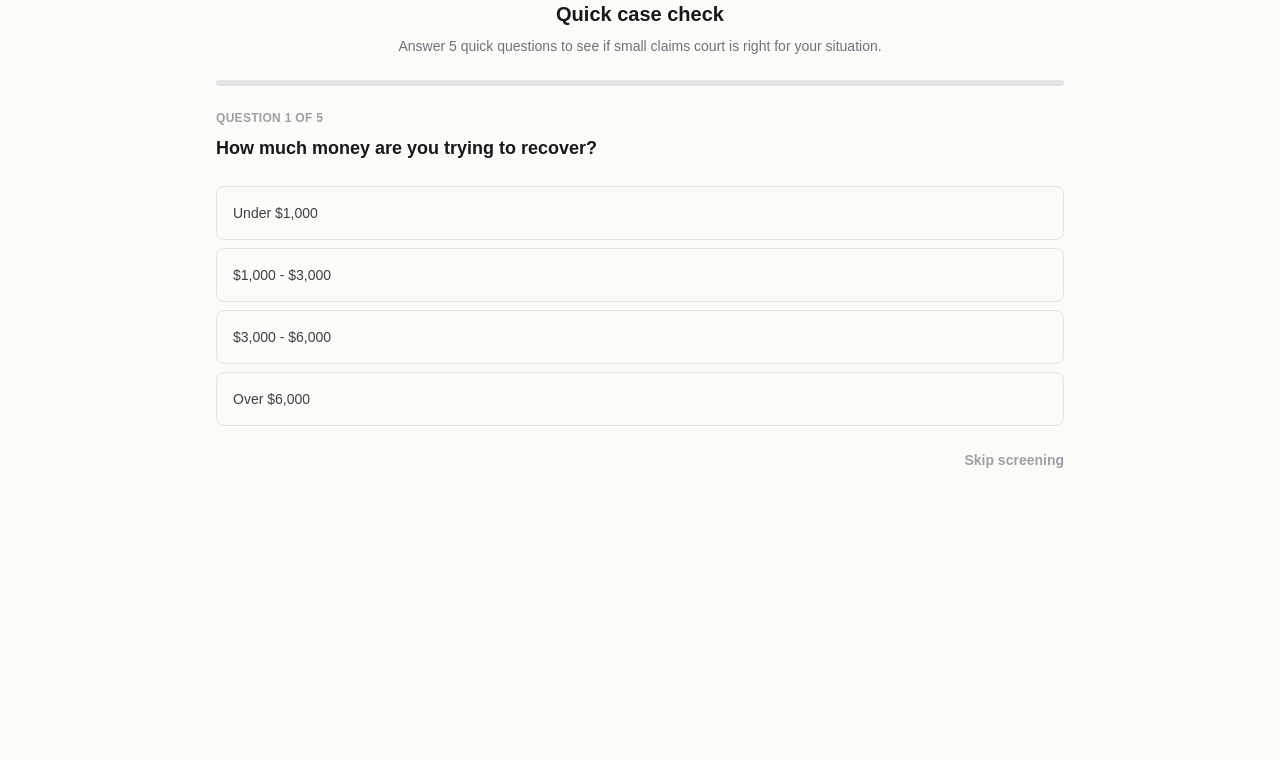
Test: Error path integration tests › shows error when addEvidence fails
This screenshot has width=1280, height=760.
Click the button "Skip screening" at {"x": 1014, "y": 460}, box top-left (964, 450), bottom-right (1064, 470)
(page scrolled)
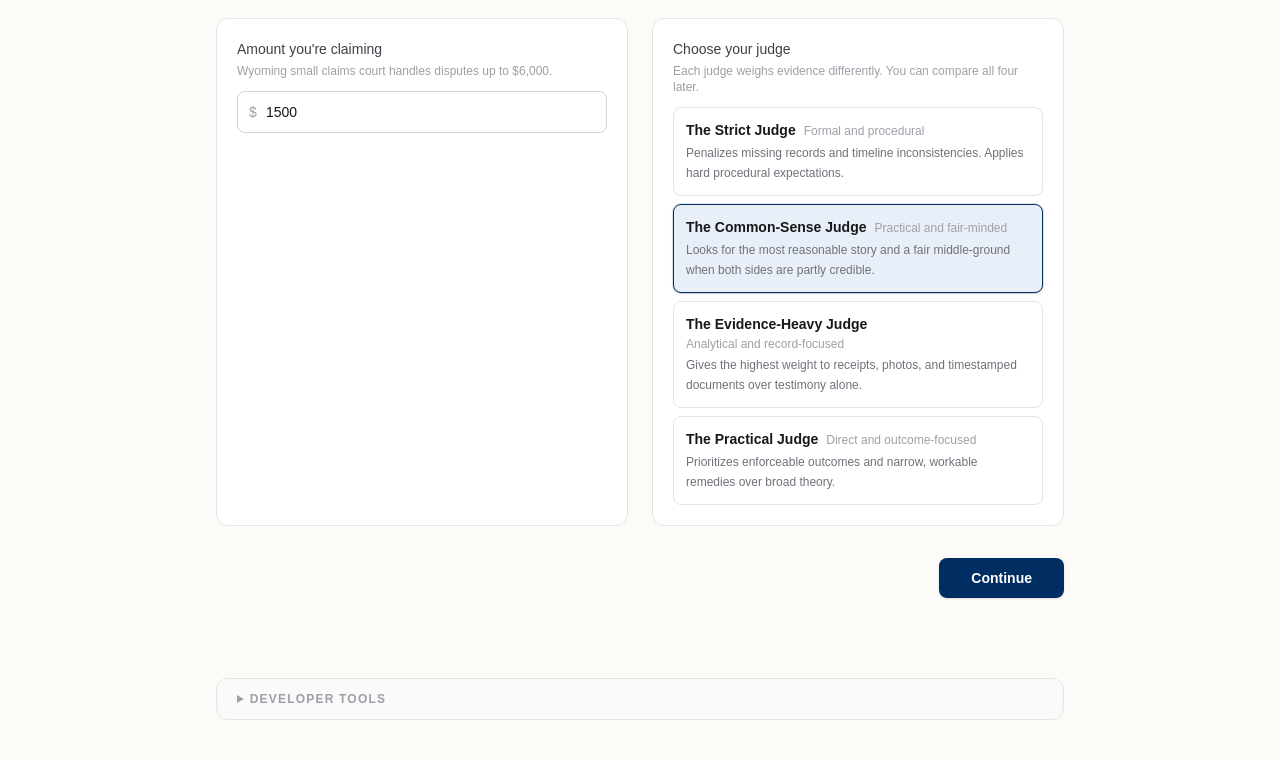
Click the button "Continue" at {"x": 1002, "y": 578}, box top-left (939, 558), bottom-right (1064, 598)
(page scrolled)
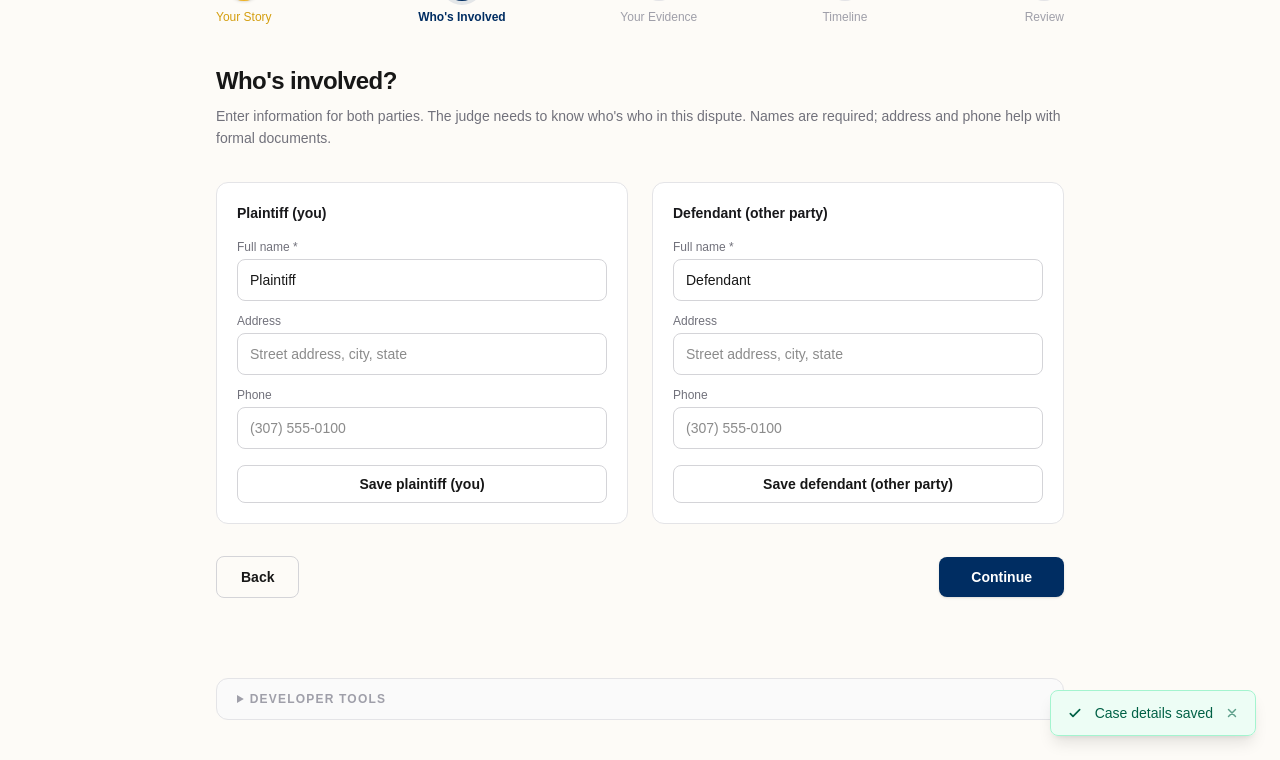
Click the button "Save plaintiff (you)" at {"x": 422, "y": 484}, box top-left (237, 465), bottom-right (607, 503)
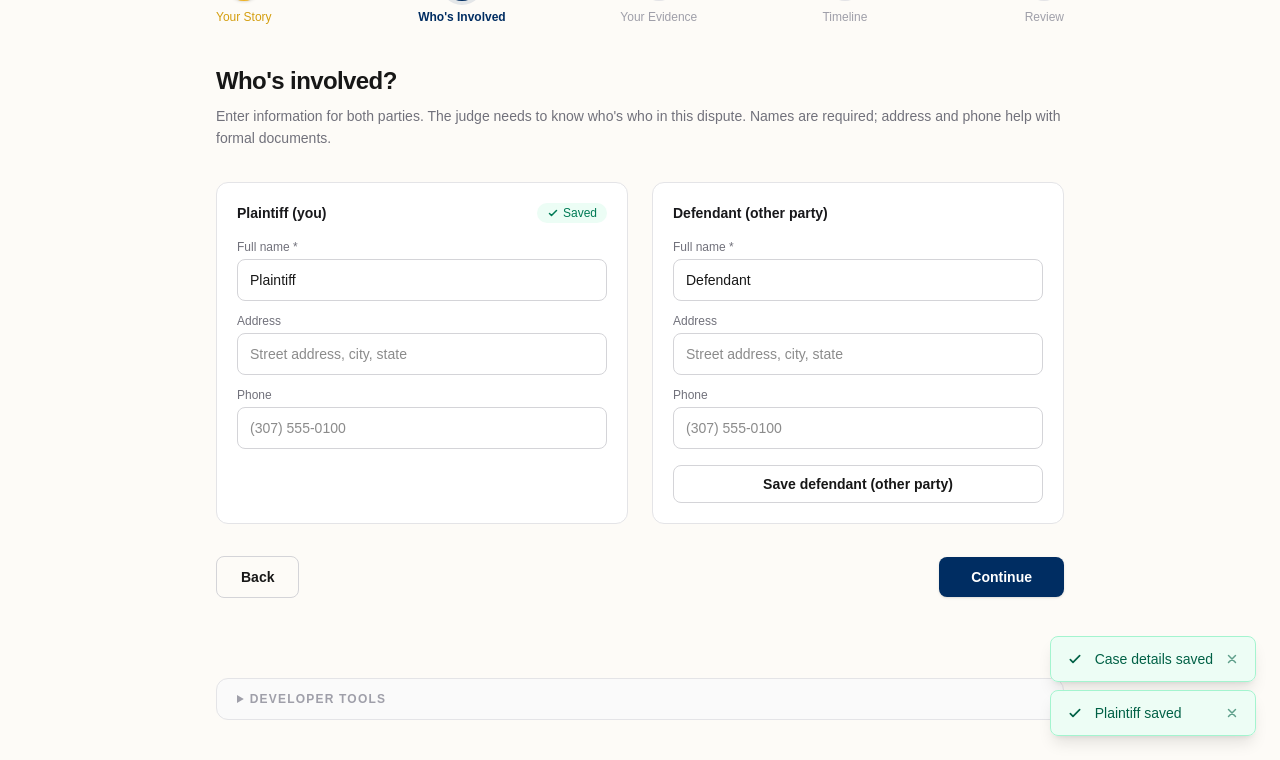
Expected: the button "Save defendant (other party)" is shown
Click the button "Save defendant (other party)" at {"x": 858, "y": 484}, box top-left (673, 465), bottom-right (1043, 503)
(page scrolled)
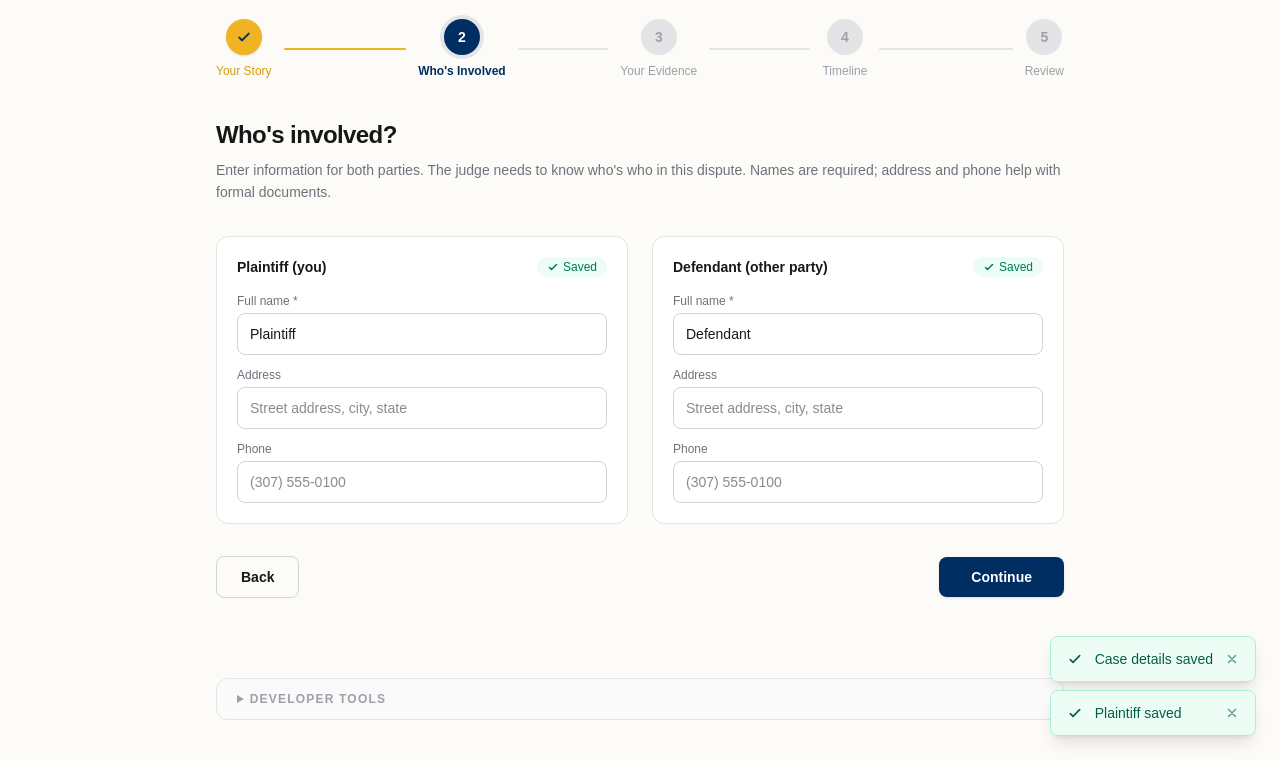
Click the button "Continue" at {"x": 1002, "y": 577}, box top-left (939, 557), bottom-right (1064, 597)
(page scrolled)
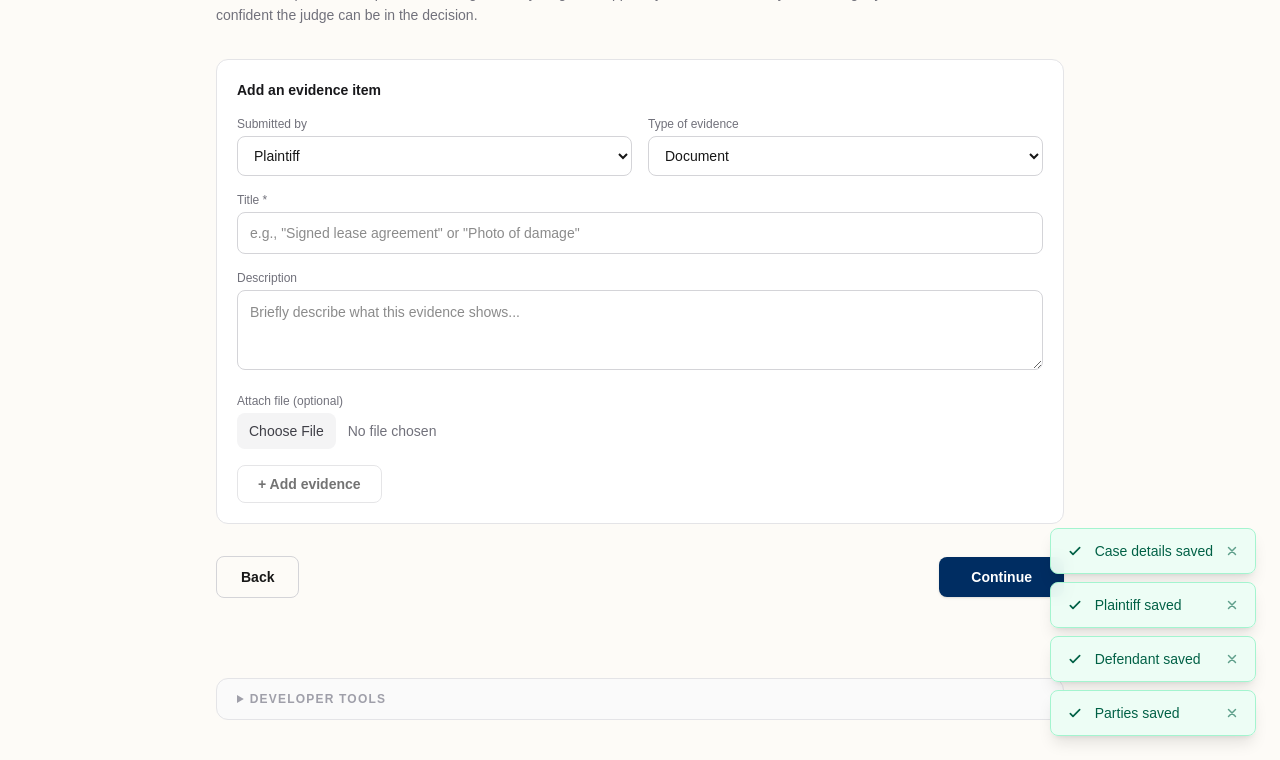
Type "Large file" into the field with placeholder "e.g., \"Signed lease agreement\" or \"Photo of damage\"" at {"x": 640, "y": 233}, box top-left (237, 212), bottom-right (1043, 254)
Click the button "+ Add evidence" at {"x": 309, "y": 484}, box top-left (237, 465), bottom-right (382, 503)
(page scrolled)
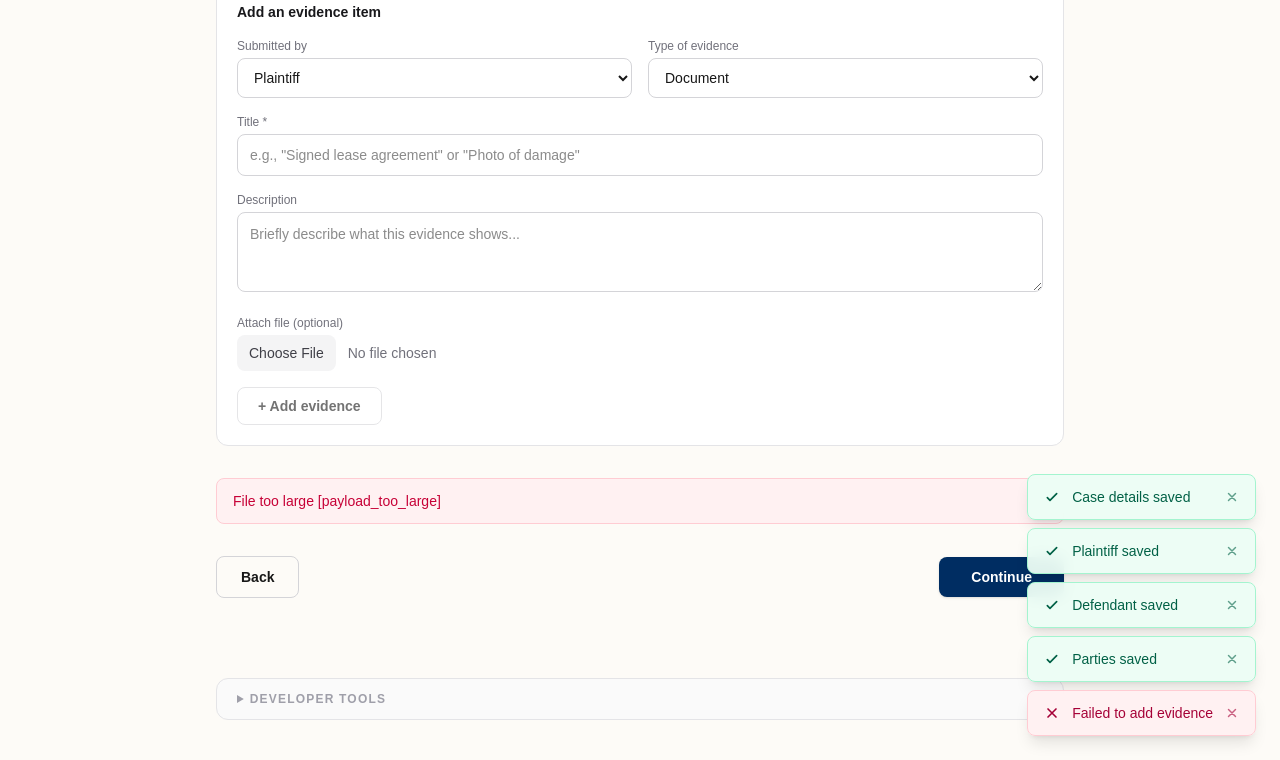
Expected: the text "File too large [payload_too_large]" is shown, top-left (216, 478), bottom-right (1064, 524)
